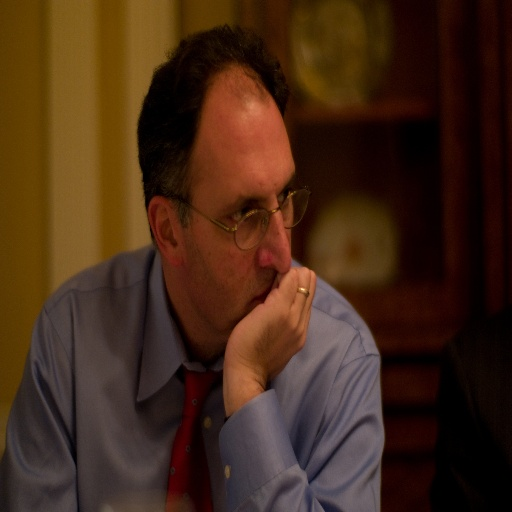hand: (213, 270, 317, 370)
